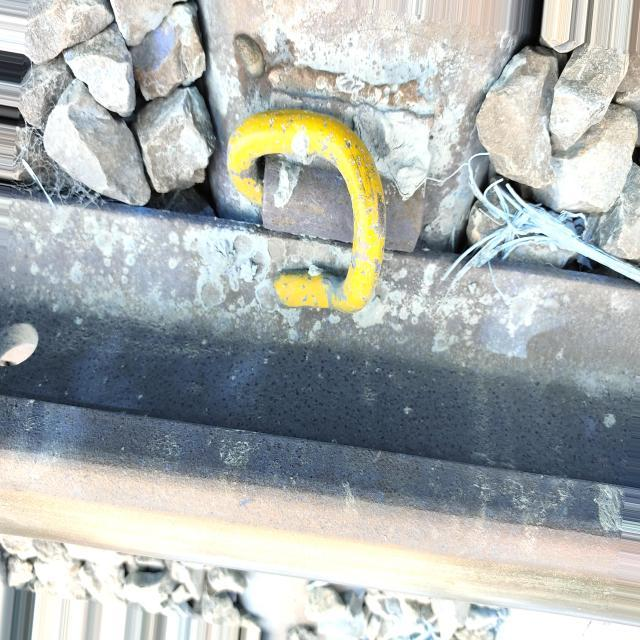Good Fasteners: (218, 31, 452, 336)
